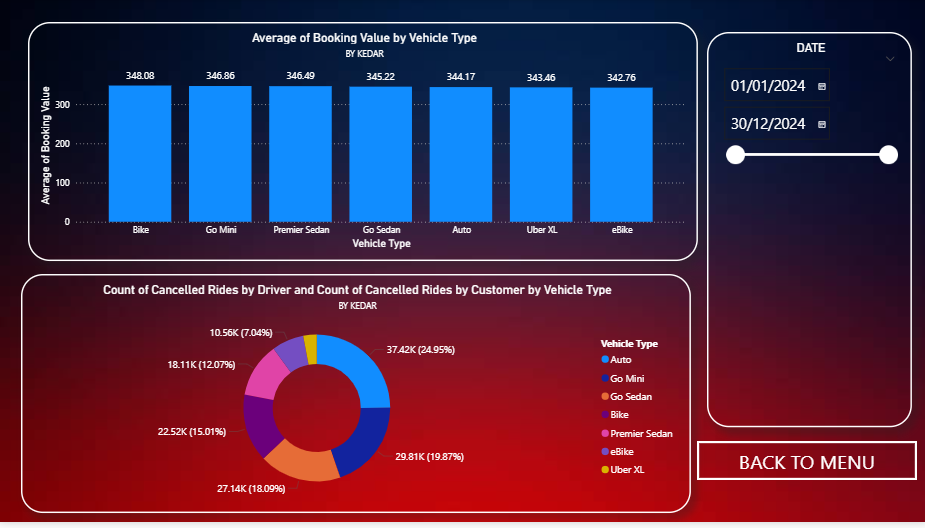

What the dashboard file says about the page in this screenshot:
{"tool":"powerbi","page":{"name":"Page 6","canvas":[1280,720],"ordinal":5},"visuals":[{"type":"donutChart","fields":{"Category":["ncr_ride_bookings.Vehicle Type"],"Y":["CountNonNull(ncr_ride_bookings.Cancelled Rides by Driver)"]},"box":[31.7,378.5,922.2,328.9],"z":0},{"type":"columnChart","fields":{"Category":["ncr_ride_bookings.Vehicle Type"],"Y":["Avg(ncr_ride_bookings.Booking Value)"]},"box":[41.3,31.7,922.2,328.9],"z":1000},{"type":"slicer","title":"DATE","fields":{"Values":["ncr_ride_bookings.Date"]},"box":[975.8,45.4,282.2,543.7],"z":2000},{"type":"actionButton","box":[962.1,608.3,302.8,53.7],"z":3000}]}

Visuals, with their boxes in screenshot pixels (x1, y1, x2, y2), scaled from the page's 1280x720 canvas onto the 925x528 screenshot:
donutChart - ncr_ride_bookings.Vehicle Type x CountNonNull(ncr_ride_bookings.Cancelled Rides by Driver): Rect(23, 278, 689, 519)
columnChart - ncr_ride_bookings.Vehicle Type x Avg(ncr_ride_bookings.Booking Value): Rect(30, 23, 696, 264)
"DATE" slicer: Rect(705, 33, 909, 432)
actionButton: Rect(695, 446, 914, 485)
